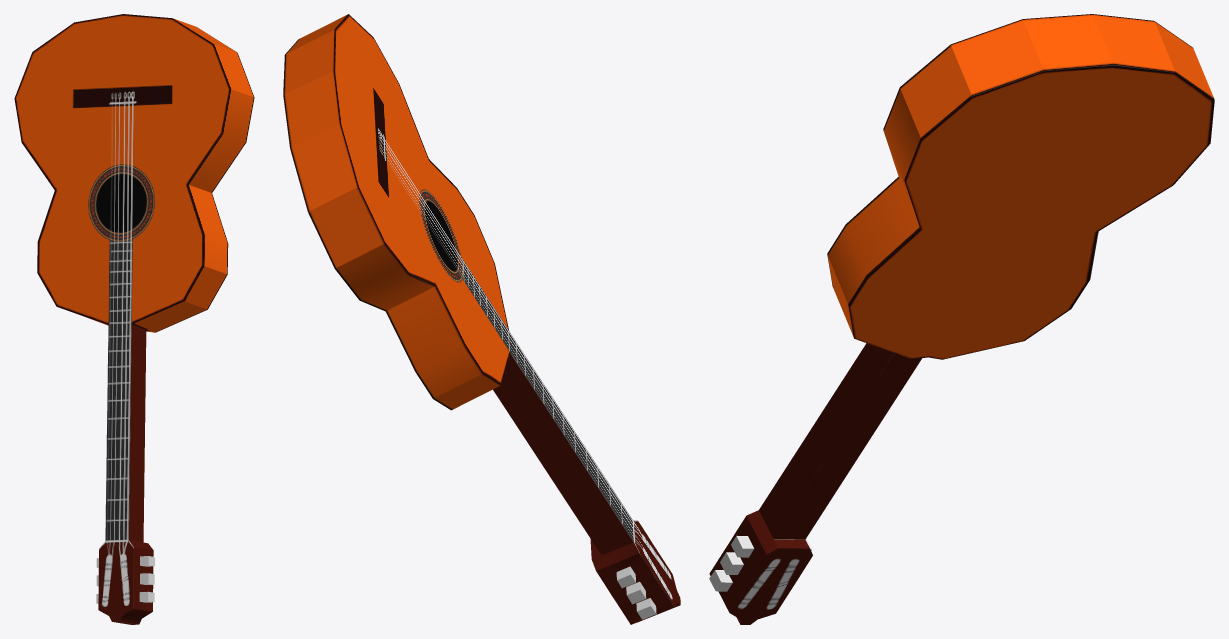
Rendered from Guitarra2_000016.obj.
The picture shows the model from 3 angles, left to right: view 1: azimuth 30°, elevation 25°; view 2: azimuth 150°, elevation 25°; view 3: azimuth 270°, elevation 25°; orthographic projection. The views are drawn at different scales.
Parts seen in each view (by area): view 1: g2_pPlane4.001; view 2: g2_pPlane4.001; view 3: g2_pPlane4.001.
Boxes of the visible parts, left/top/right/bottom form: g2_pPlane4.001: left=14, top=14, right=254, bottom=624; g2_pPlane4.001: left=283, top=14, right=680, bottom=624; g2_pPlane4.001: left=709, top=14, right=1214, bottom=624.
Bounding box in the file's own units: 5.07 × 11.2 × 7.33.
